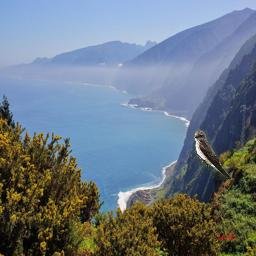Swallow: (194, 130, 232, 180)
